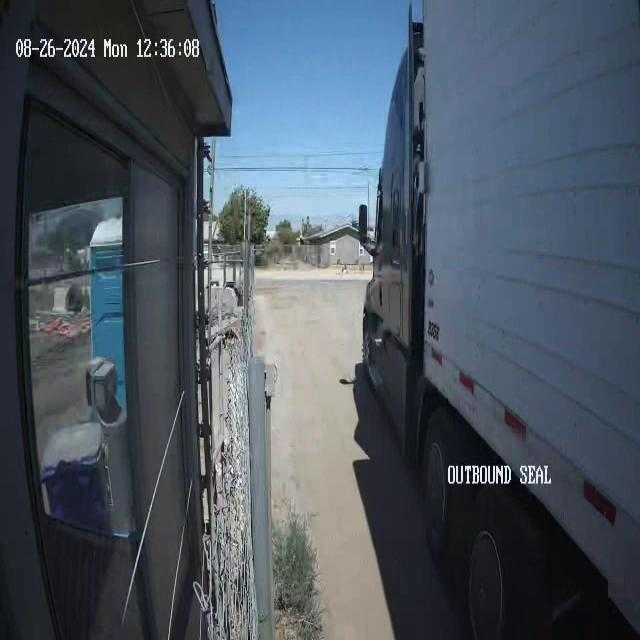TRUCK_OUT: (359, 1, 639, 636)
